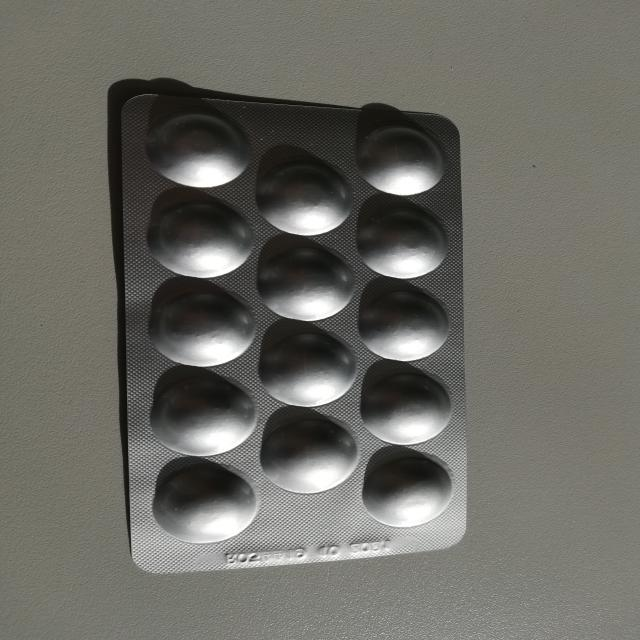Pill: (143, 371, 264, 460), (139, 279, 252, 371), (148, 457, 263, 542), (142, 111, 258, 190), (144, 202, 256, 280), (260, 408, 360, 494), (356, 365, 458, 447), (356, 288, 456, 367), (261, 324, 356, 406), (259, 157, 354, 237), (261, 244, 356, 321), (365, 449, 452, 533), (357, 210, 454, 284), (357, 129, 450, 203)
